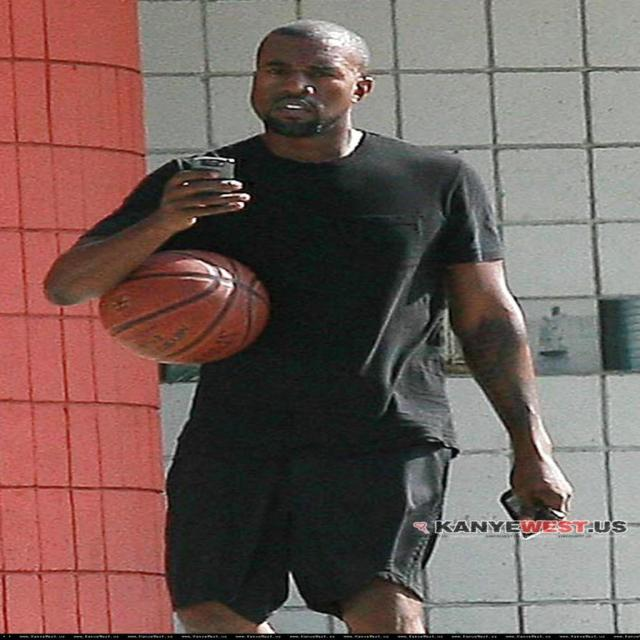Face: (249, 30, 372, 143)
